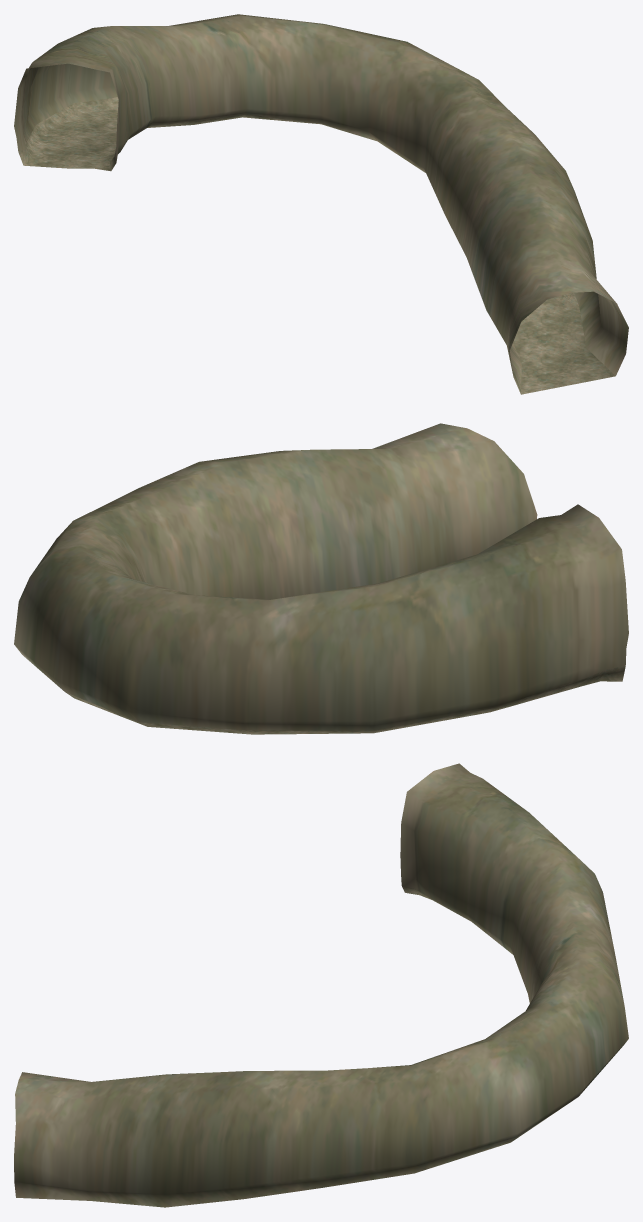
File: OVERHILL_A_01_LINE286.fbx
3 views of the same model, one above another, from view 1: azimuth 30°, elevation 25°; view 2: azimuth 150°, elevation 25°; view 3: azimuth 270°, elevation 25° (orthographic). The views are drawn at different scales.
Parts seen in each view (by area): view 1: OVERHILL_A_01_LINE286; view 2: OVERHILL_A_01_LINE286; view 3: OVERHILL_A_01_LINE286.
Boxes of the visible parts, x1,y1,x2,y2 form: OVERHILL_A_01_LINE286: [14, 14, 628, 394]; OVERHILL_A_01_LINE286: [14, 423, 628, 734]; OVERHILL_A_01_LINE286: [14, 763, 628, 1207].
Size of the model in its own units: 163586 by 83954 by 183853.
1 material, 1 textured.
